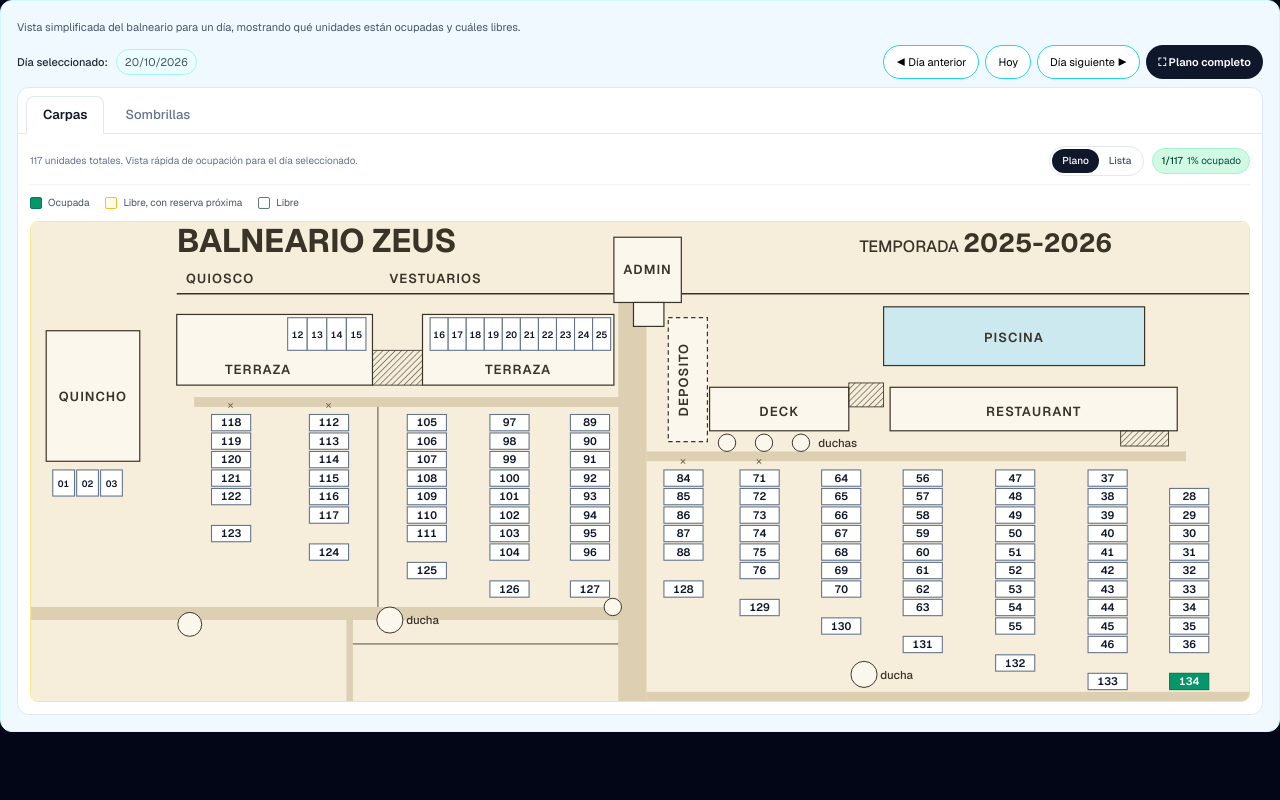
Test: Vista rapida con el plano › el plano completo cubre la pantalla con todo y se cierra con el boton o con Esc
Click the button "⛶ Plano completo". click: (1205, 62)
box: [1146,45,1263,79]
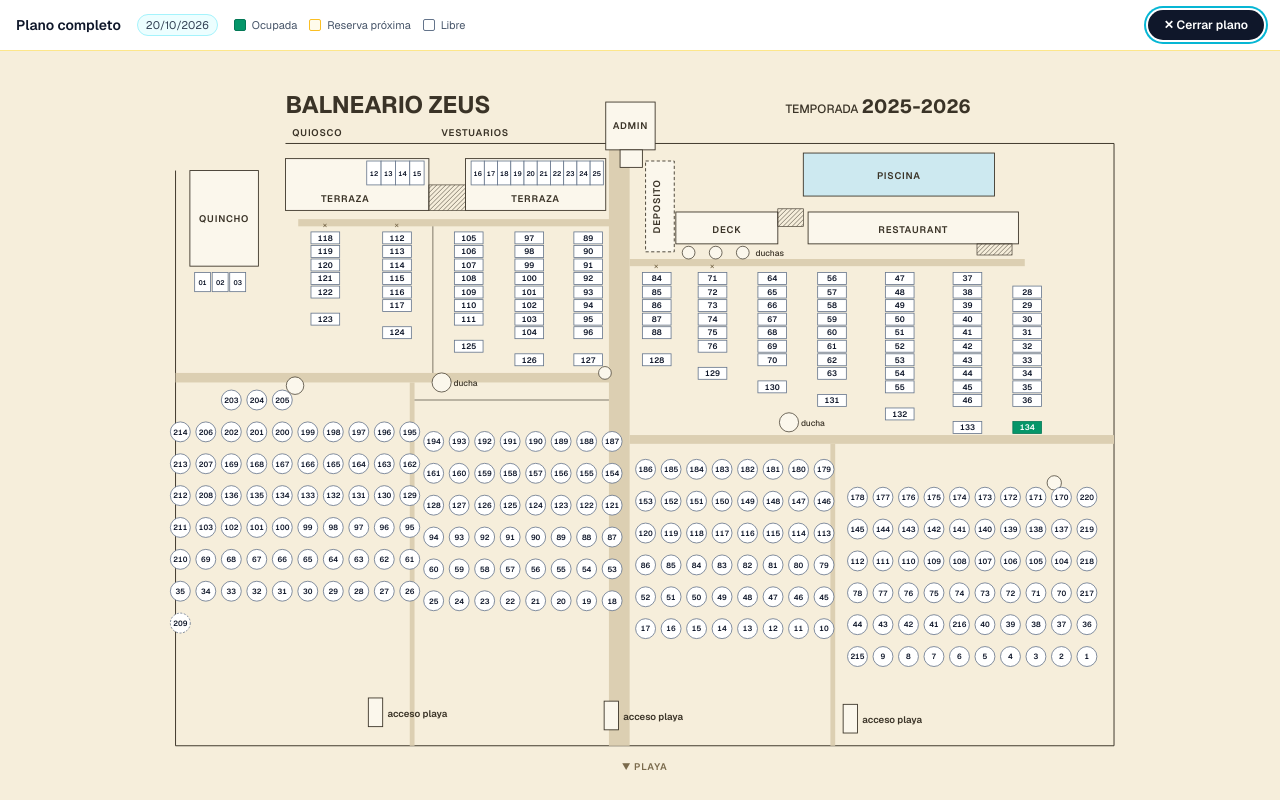
Click the button "✕ Cerrar plano". click: (1206, 25)
box: [1148,10,1264,40]
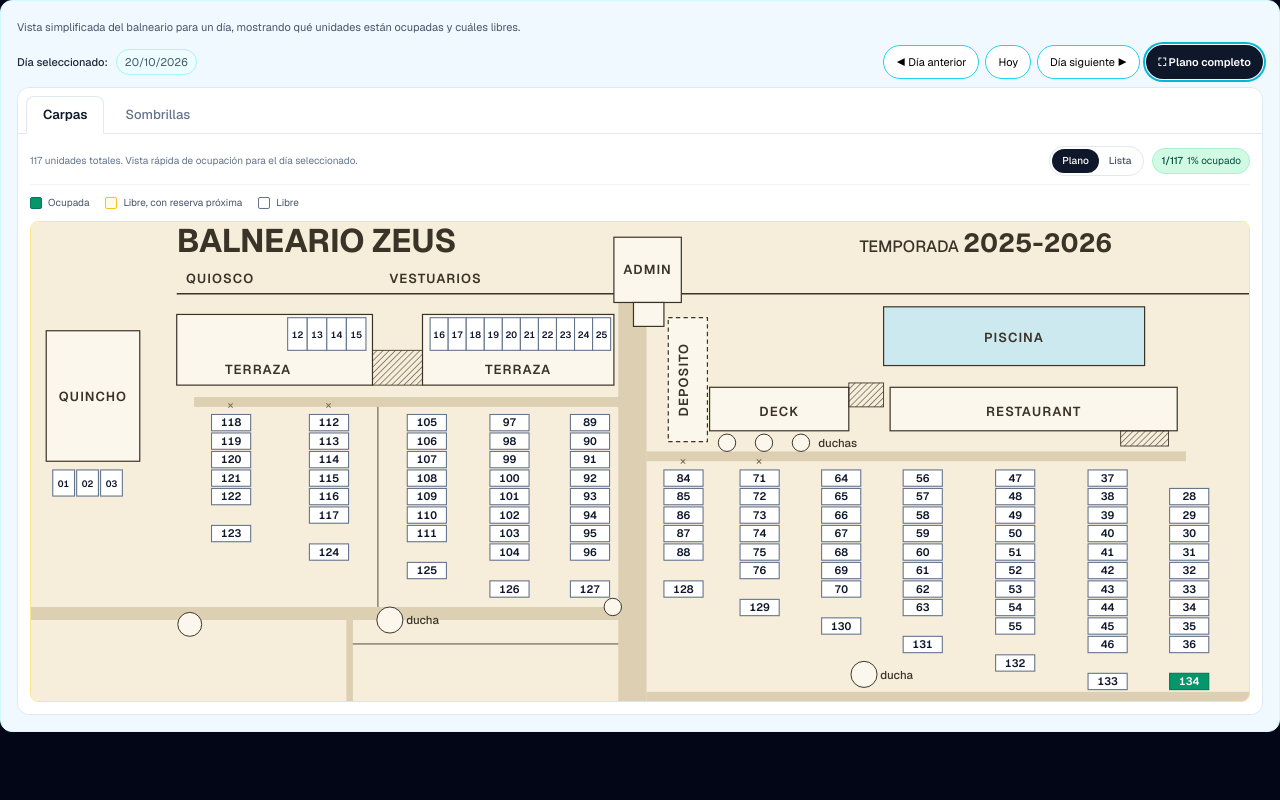
Expected: the dialog is gone
Click the button "⛶ Plano completo". click: (1205, 62)
box: [1146,45,1263,79]
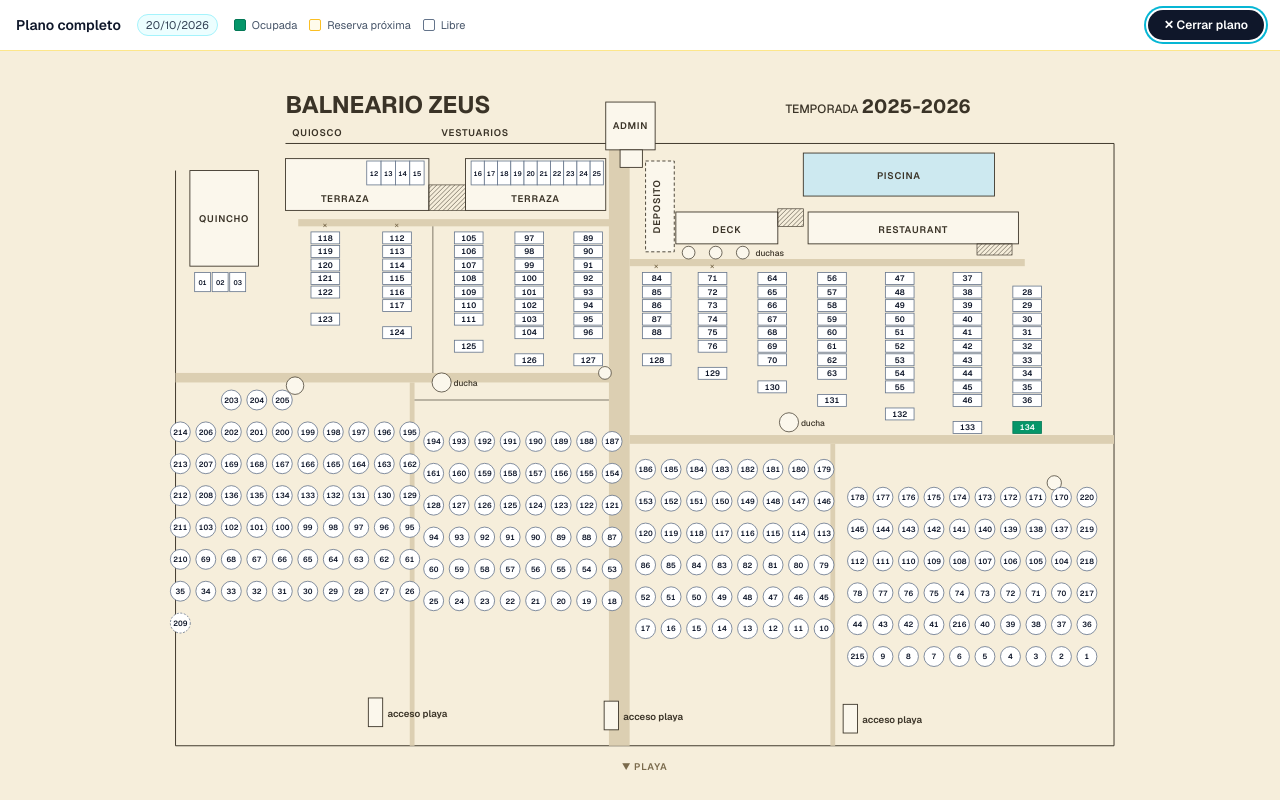
Press Escape
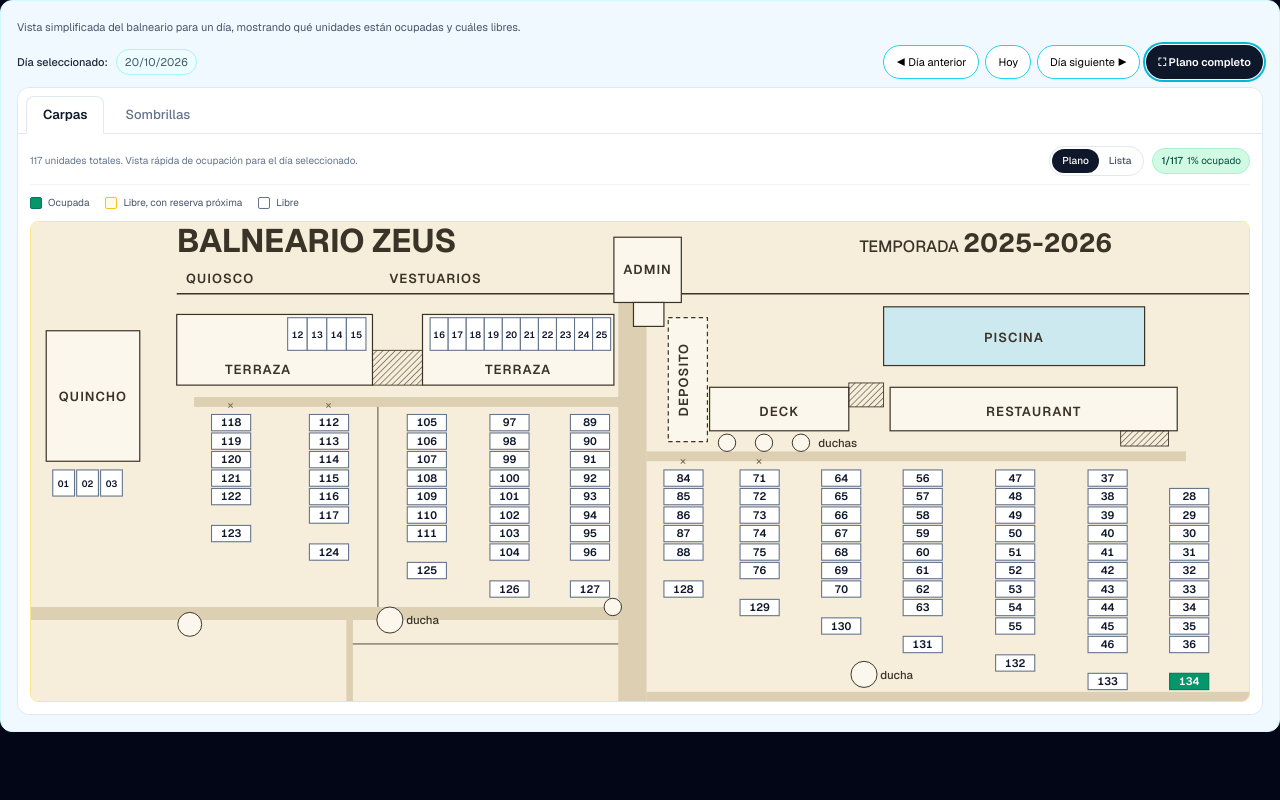
Expected: the dialog is gone
